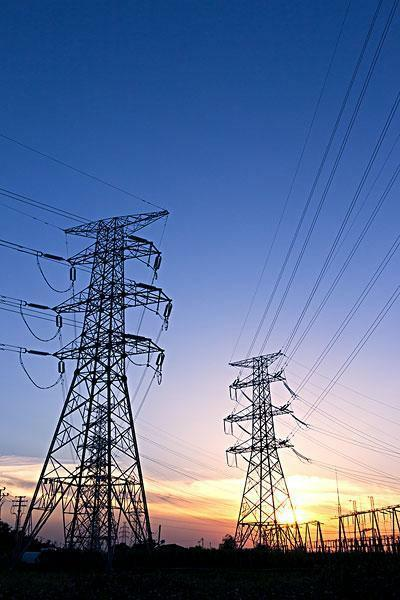power_tower: (12, 188, 188, 552), (209, 346, 309, 555)
